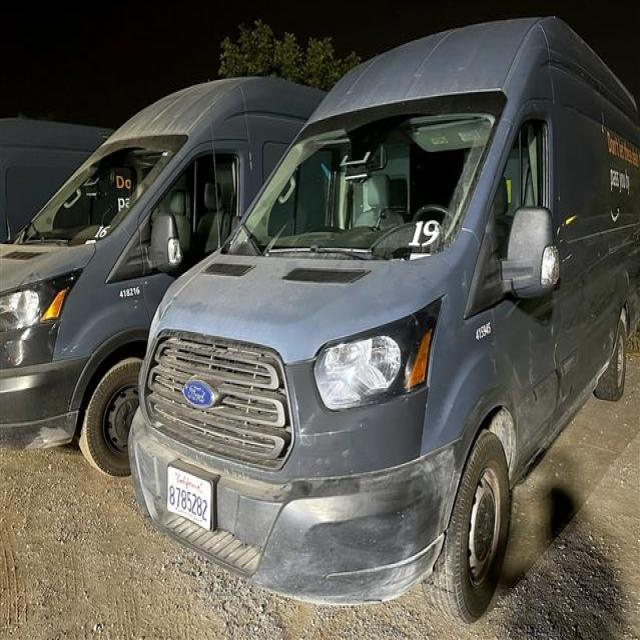truck: (125, 13, 638, 623), (0, 73, 341, 479)
